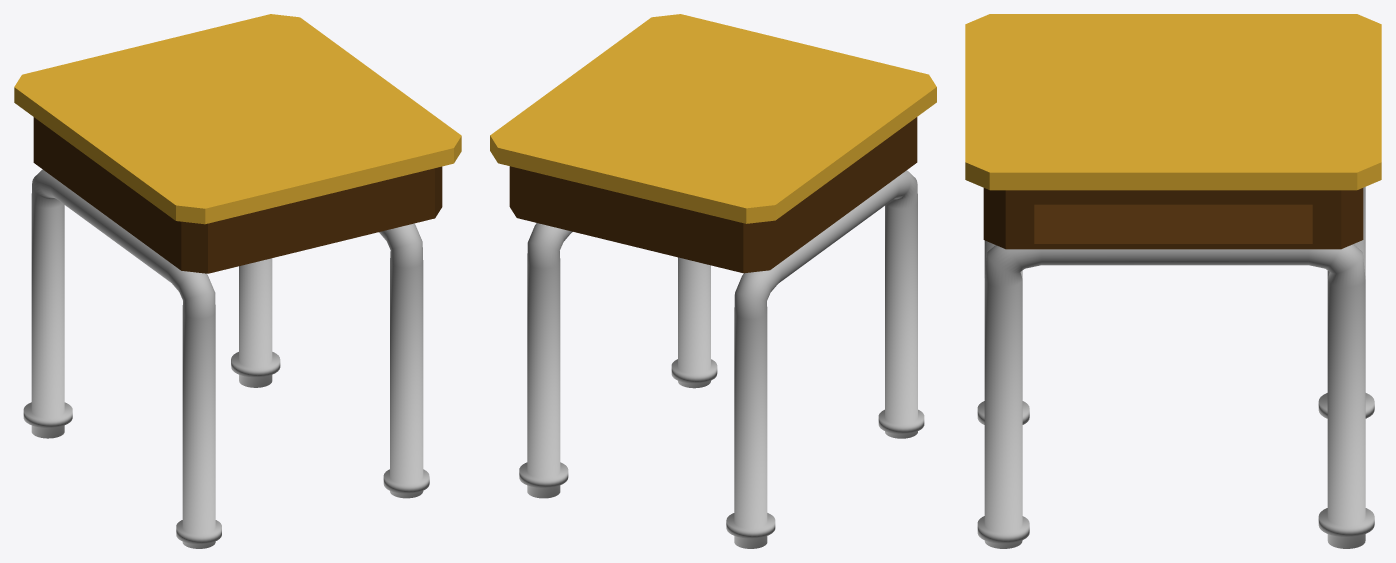
Rendered from basic_desk.fbx.
3 renders of one model, left to right at view 1: azimuth 30°, elevation 25°; view 2: azimuth 150°, elevation 25°; view 3: azimuth 270°, elevation 25°, orthographic. The views are drawn at different scales.
Parts seen in each view (by area): view 1: Cube.015; view 2: Cube.015; view 3: Cube.015.
Part boxes in pixels (x1=…): Cube.015: x1=14, y1=14, x2=461, y2=548; Cube.015: x1=490, y1=14, x2=936, y2=548; Cube.015: x1=965, y1=14, x2=1381, y2=548.
Size of the model in its own units: 599 by 697 by 664.
